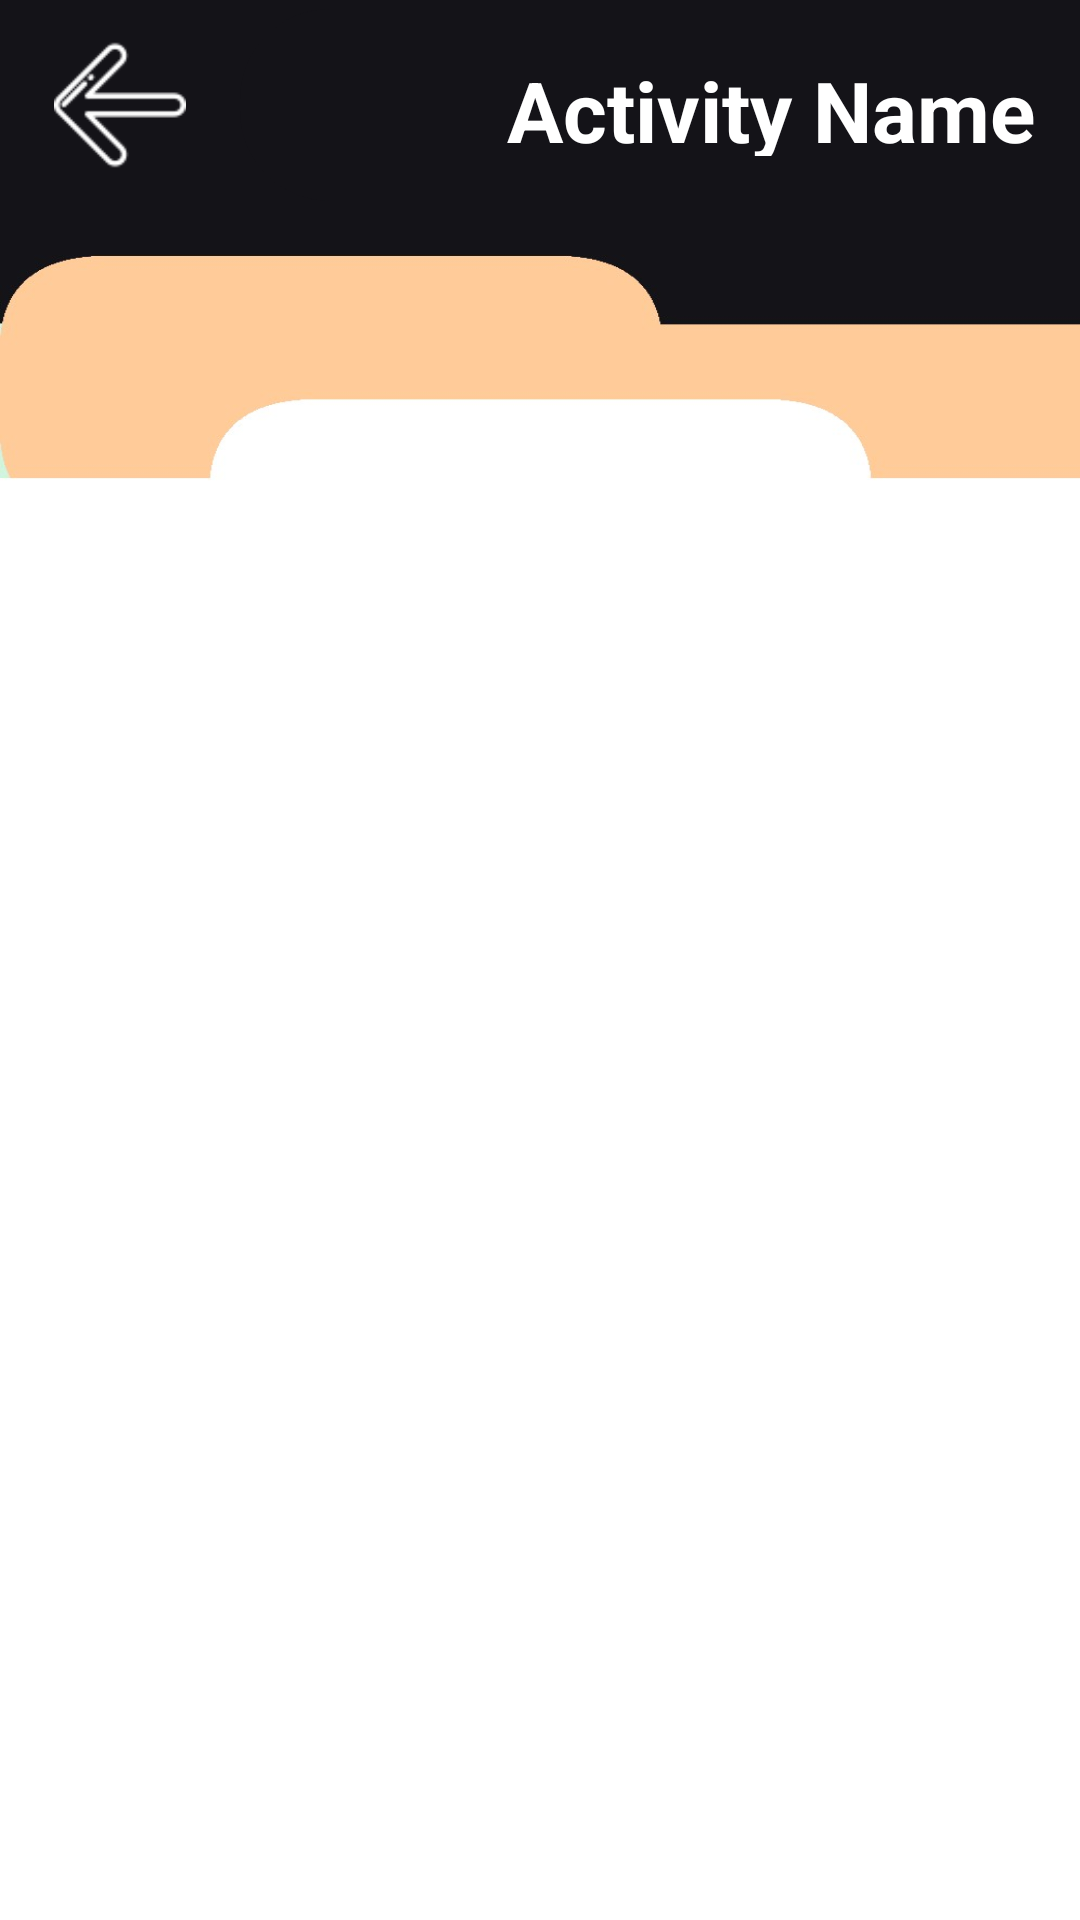

Icons on this 1080×1920 Android screen, each with the point to tap as (x,y):
back: (120,105)
